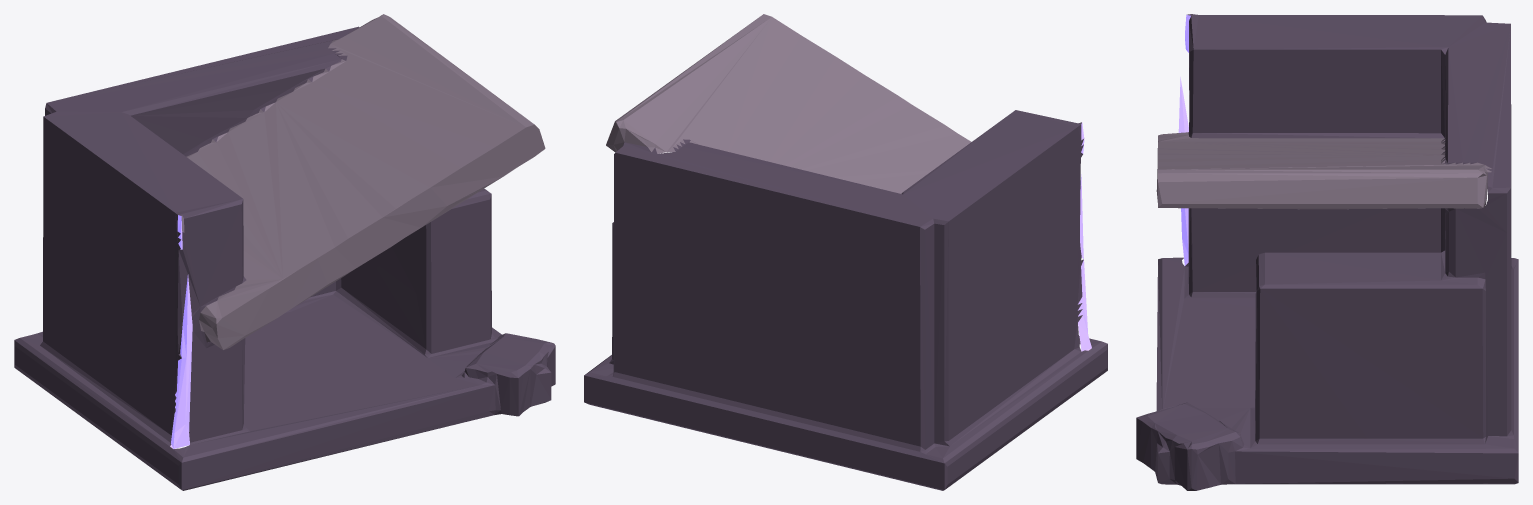
The model's file is collapsed_tomb.glb.
3 renders of one model, left to right at view 1: azimuth 30°, elevation 25°; view 2: azimuth 150°, elevation 25°; view 3: azimuth 270°, elevation 25°, orthographic. The views are drawn at different scales.
Visible parts, largest first — view 1: collapsed_tomb; view 2: collapsed_tomb; view 3: collapsed_tomb.
Part boxes in pixels (box(x1,y1,x2,y2)): collapsed_tomb: box(14, 14, 555, 490); collapsed_tomb: box(584, 14, 1107, 490); collapsed_tomb: box(1136, 14, 1518, 490).
Size of the model in its own units: 2.94 by 2.04 by 2.32.
